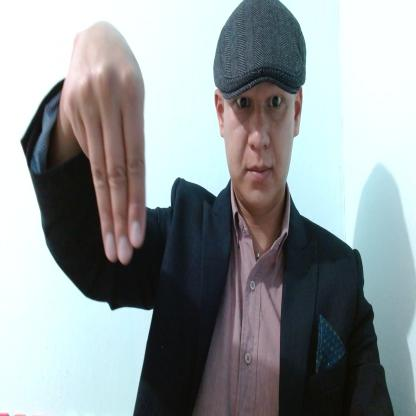M: (60, 25, 144, 267)
